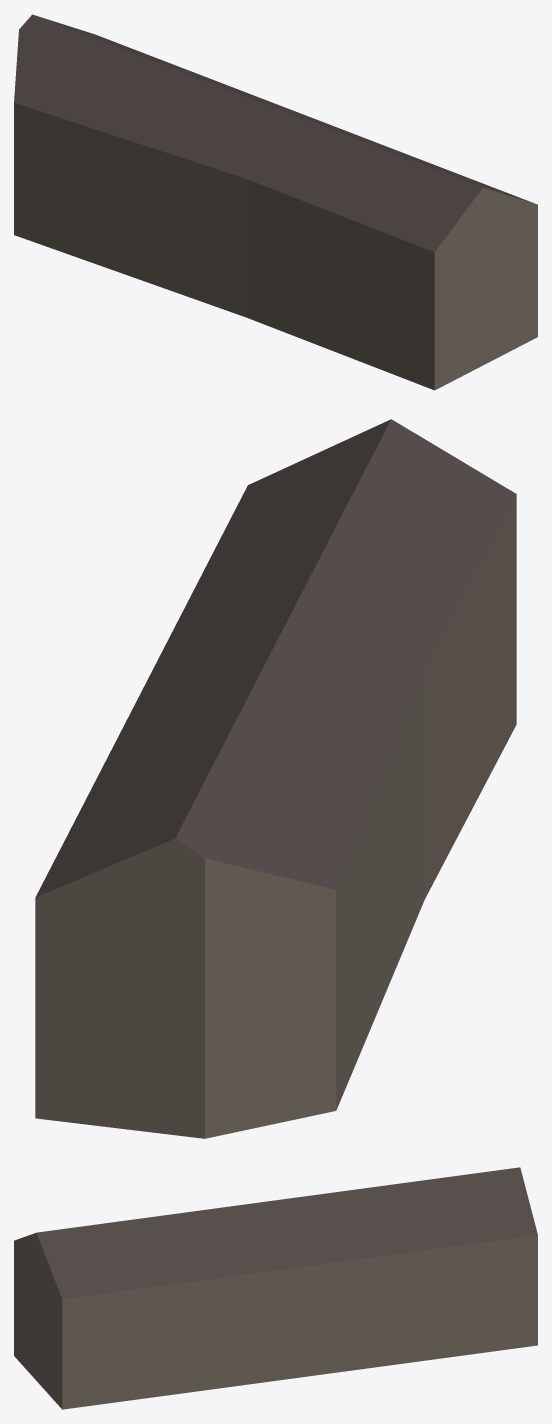
3 renders of one model, top to bottom at view 1: azimuth 30°, elevation 25°; view 2: azimuth 150°, elevation 25°; view 3: azimuth 270°, elevation 25°, orthographic. The views are drawn at different scales.
Parts seen in each view (by area): view 1: HP-w1516161926; view 2: HP-w1516161926; view 3: HP-w1516161926.
Boxes of the visible parts, box(x1,y1,x2,y2) form: HP-w1516161926: box(14, 14, 537, 390); HP-w1516161926: box(35, 419, 516, 1138); HP-w1516161926: box(14, 1167, 537, 1409).
Bounding box in the file's own units: 20.52 × 12.1 × 38.72.
